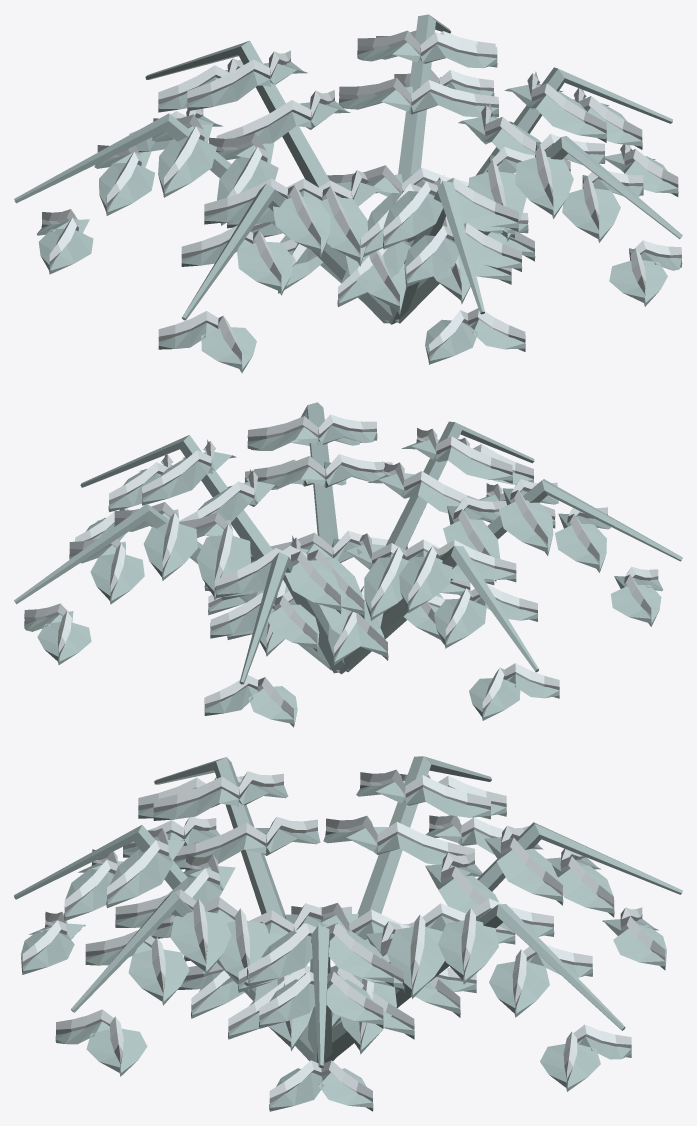
The model's file is PLANT_04_FernFrosted.glb.
The picture shows the model from 3 angles, top to bottom: view 1: azimuth 30°, elevation 25°; view 2: azimuth 150°, elevation 25°; view 3: azimuth 270°, elevation 25°; orthographic projection. The views are drawn at different scales.
Parts seen in each view (by area): view 1: PLANT_04_FernFrosted; view 2: PLANT_04_FernFrosted; view 3: PLANT_04_FernFrosted.
Part boxes in pixels (x1,y1,x2,y2): PLANT_04_FernFrosted: (14,14,682,372); PLANT_04_FernFrosted: (14,402,682,727); PLANT_04_FernFrosted: (14,756,682,1111).
Bounding box in the file's own units: 1.22 × 0.4333 × 1.2.
